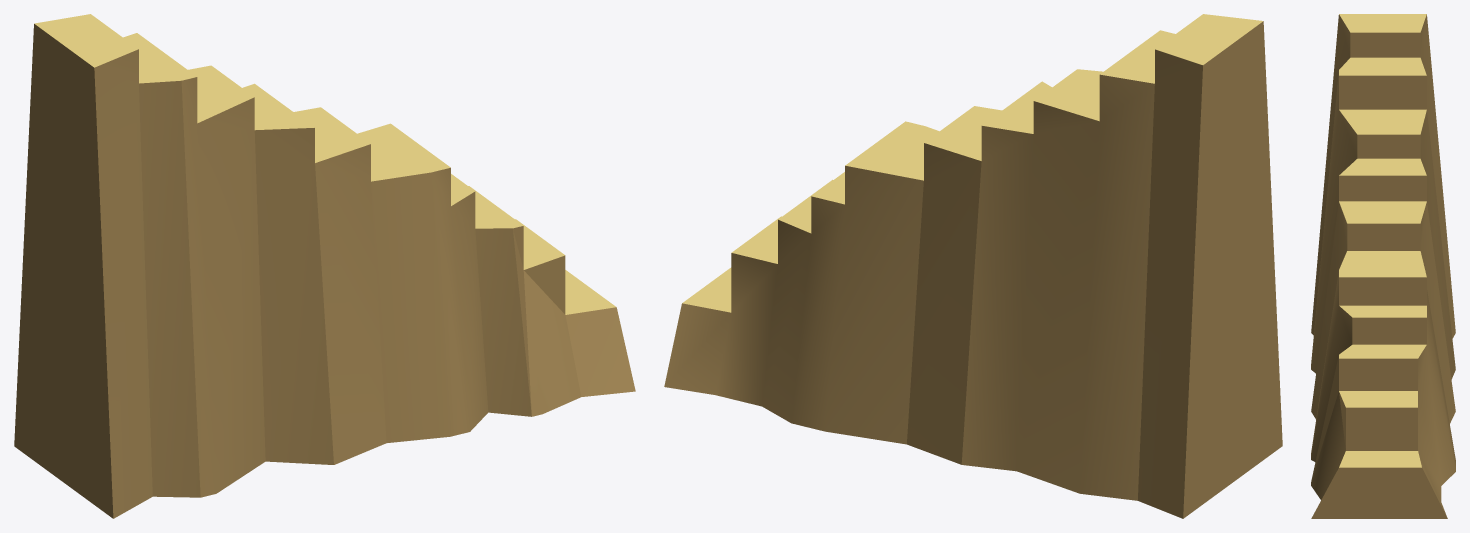
Rendered from Terrain_Tile_Sand_Stairs_03.fbx.
3 views of the same model, side by side, from view 1: azimuth 30°, elevation 25°; view 2: azimuth 150°, elevation 25°; view 3: azimuth 270°, elevation 25° (orthographic). The views are drawn at different scales.
Visible parts, largest first — view 1: Terrain_Tile_Sand_Stairs_03; view 2: Terrain_Tile_Sand_Stairs_03; view 3: Terrain_Tile_Sand_Stairs_03.
Part boxes in pixels (bbox=[...]): Terrain_Tile_Sand_Stairs_03: bbox=[14, 14, 635, 518]; Terrain_Tile_Sand_Stairs_03: bbox=[664, 14, 1282, 518]; Terrain_Tile_Sand_Stairs_03: bbox=[1311, 14, 1455, 518].
Bounding box in the file's own units: 157 × 126 × 51.8.
